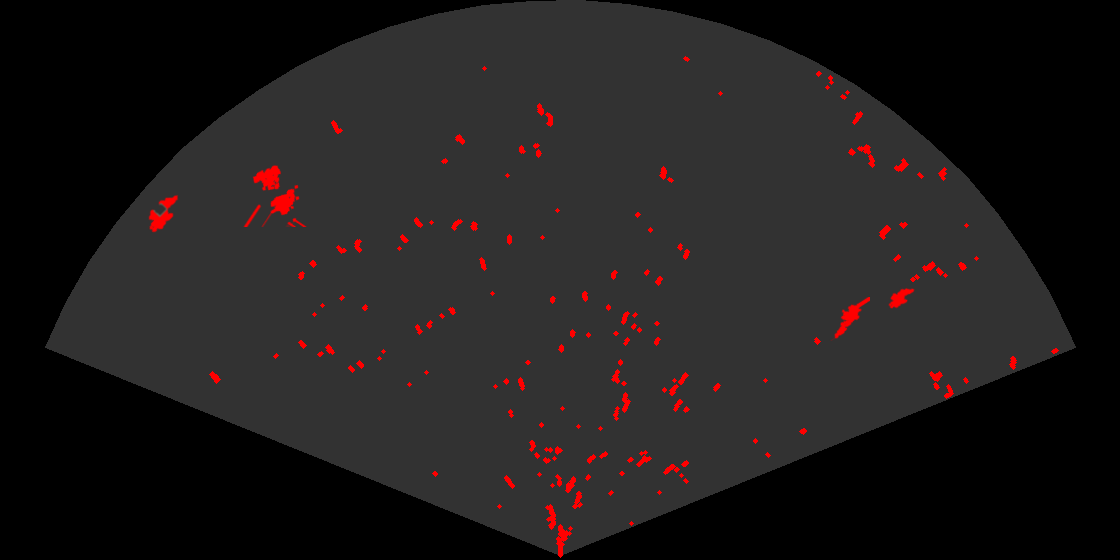AUV: (147, 193, 180, 234), (887, 286, 916, 310)
cage: (242, 164, 308, 227)
frogman: (829, 297, 870, 341)
